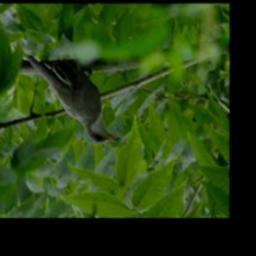Cuckoo: (26, 55, 120, 144)
